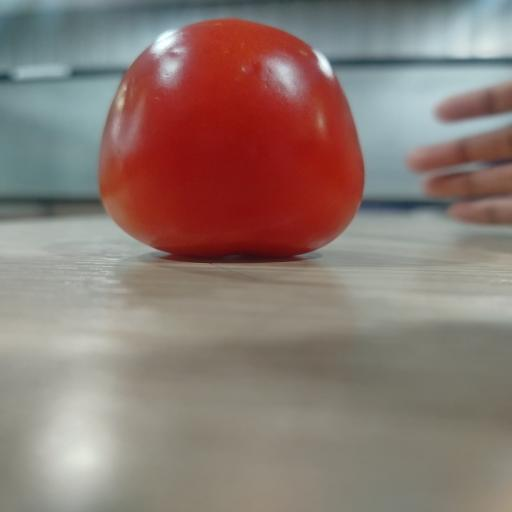ripe: (99, 19, 364, 256)
